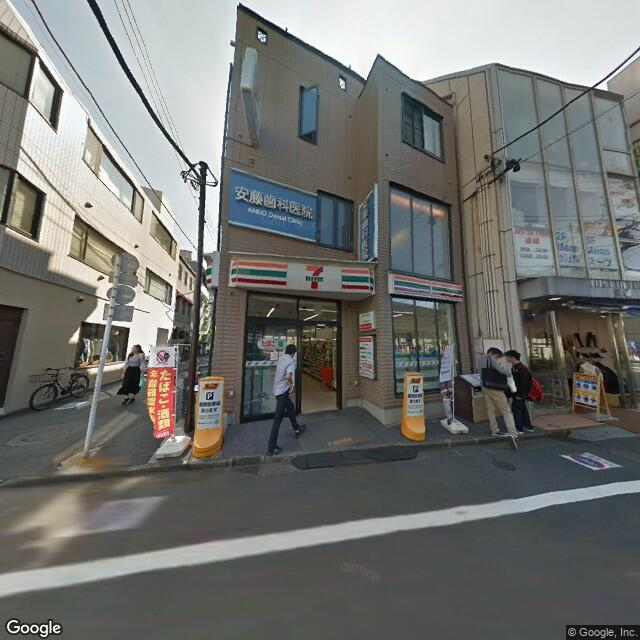7-eleven: (221, 258, 373, 296), (382, 271, 464, 303)
